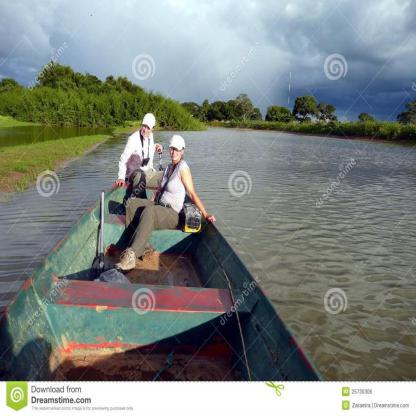face: (171, 144, 183, 161), (142, 123, 153, 137)
